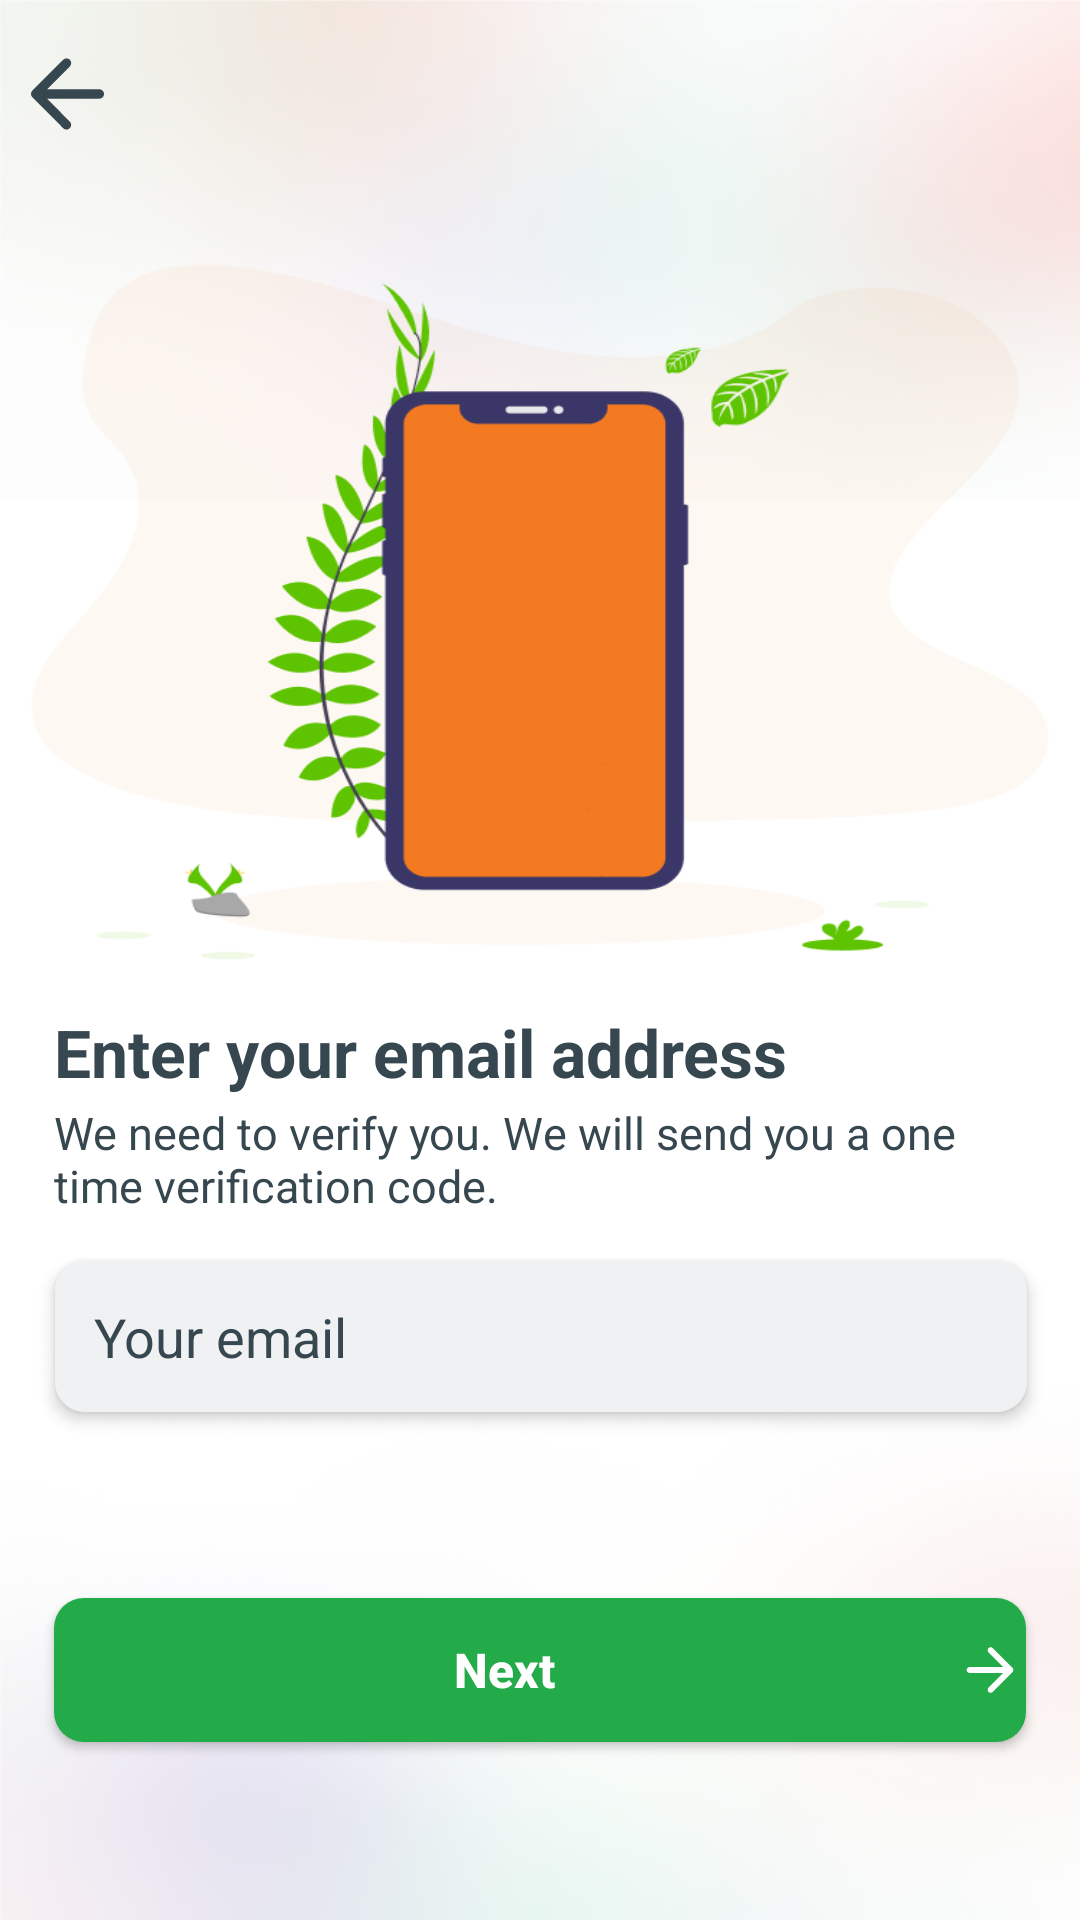

Icons on this 1080w x 1920h Android screen, each with its box as (x1, y1, x2, y2):
backward: (31, 58, 104, 130)
